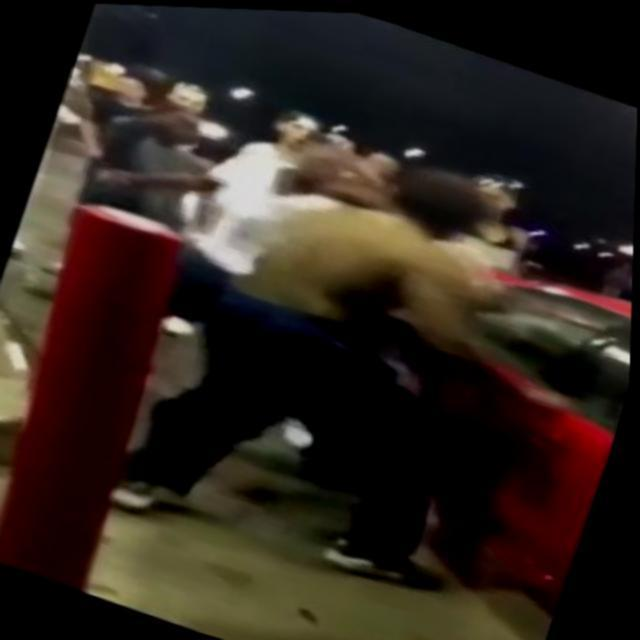fight: (91, 77, 557, 556)
